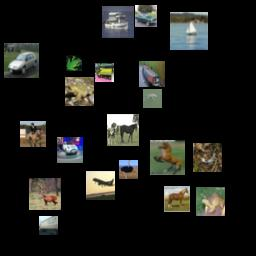airplane: (86, 171, 115, 200)
automobile: (4, 43, 39, 78), (57, 137, 83, 163), (135, 5, 157, 27)
bird: (119, 160, 138, 179)
cat: (193, 143, 222, 172)
deer: (29, 178, 61, 210)
frog: (65, 77, 94, 106), (196, 187, 225, 216), (143, 89, 162, 108), (66, 55, 82, 71)
ship: (170, 12, 208, 50), (102, 6, 134, 38), (139, 61, 165, 87)
truck: (95, 63, 114, 82), (39, 216, 58, 235)
